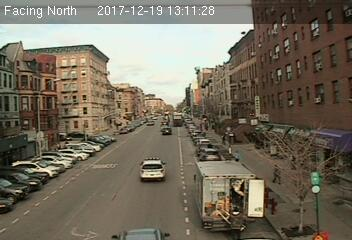car: (200, 147, 221, 161), (161, 126, 172, 133)
pedestrian: (271, 162, 280, 189)
police: (137, 156, 168, 182)
truck: (193, 160, 253, 233)
